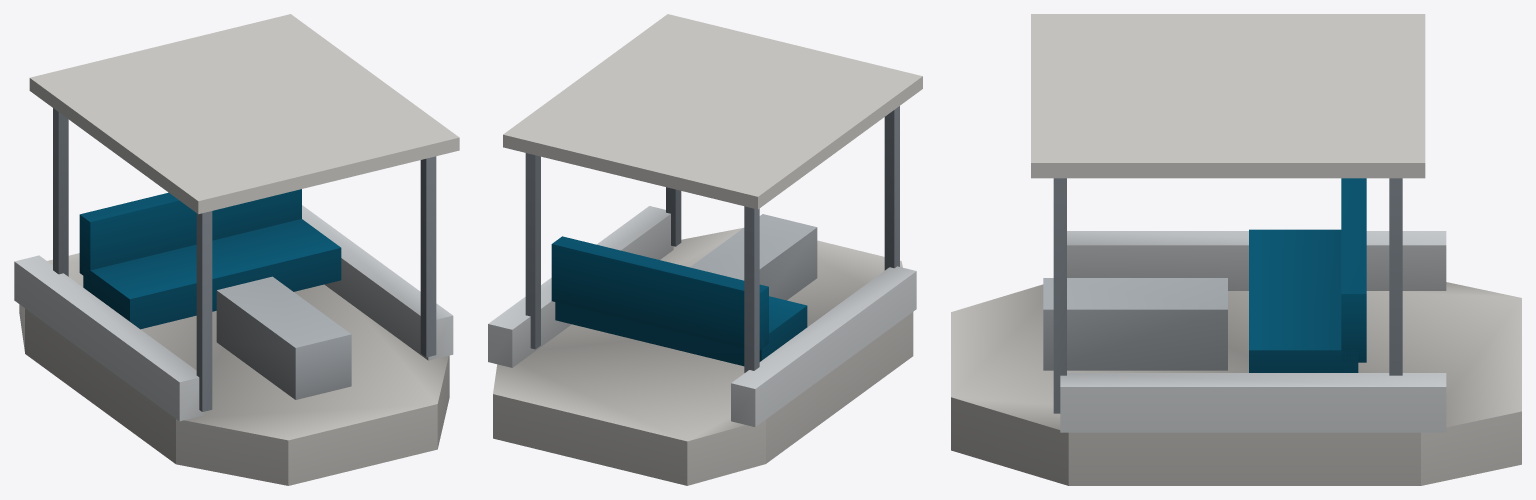
Rendered from paddle-boat.glb.
The picture shows the model from 3 angles, left to right: view 1: azimuth 30°, elevation 25°; view 2: azimuth 150°, elevation 25°; view 3: azimuth 270°, elevation 25°; orthographic projection. The views are drawn at different scales.
Visible parts, largest first — view 1: paddle-boat; view 2: paddle-boat; view 3: paddle-boat.
Part boxes in pixels (left/top/right/bottom): paddle-boat: left=14, top=14, right=459, bottom=485; paddle-boat: left=488, top=14, right=922, bottom=485; paddle-boat: left=951, top=14, right=1521, bottom=485.
Size of the model in its own units: 2.2 by 2.1 by 3.4.
